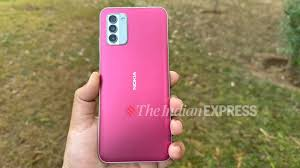SmartPhone: (102, 8, 170, 161)
